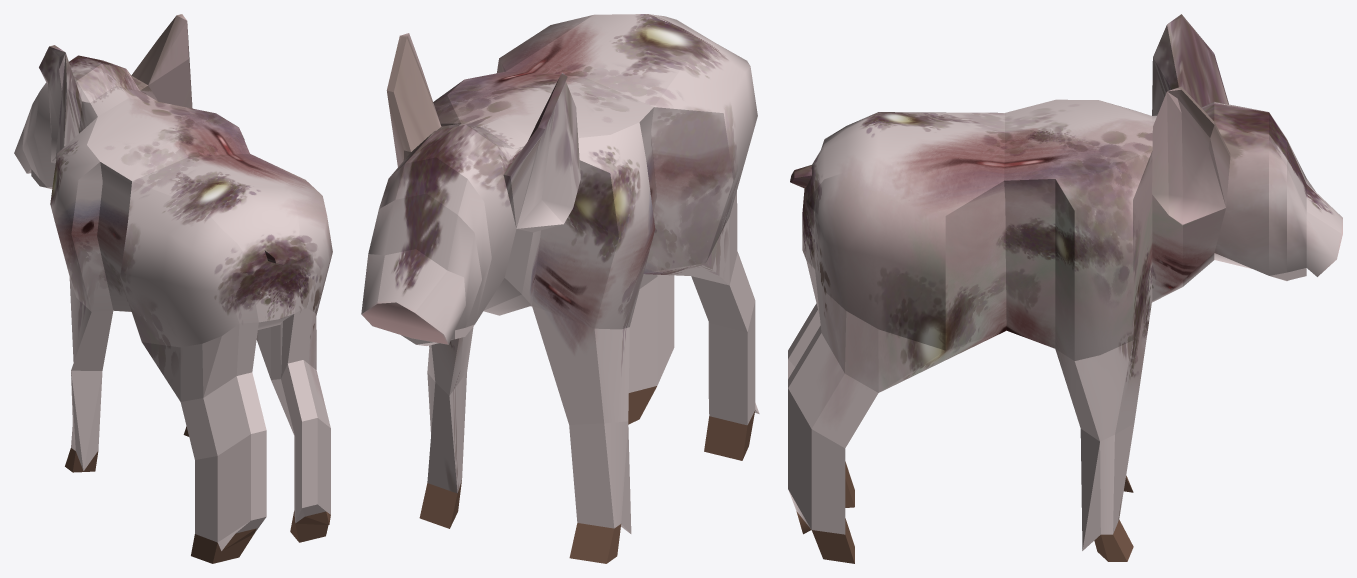
Rendered from NPCPiglet_3.fbx.
3 views of the same model, side by side, from view 1: azimuth 30°, elevation 25°; view 2: azimuth 150°, elevation 25°; view 3: azimuth 270°, elevation 25° (orthographic). The views are drawn at different scales.
Visible parts, largest first — view 1: Baby_pig_NPC_3; view 2: Baby_pig_NPC_3; view 3: Baby_pig_NPC_3.
Boxes of the visible parts, x1,y1,x2,y2 form: Baby_pig_NPC_3: [14, 14, 332, 563]; Baby_pig_NPC_3: [361, 14, 759, 563]; Baby_pig_NPC_3: [788, 14, 1342, 563].
Bounding box in the file's own units: 14.68 × 29.58 × 31.29.
1 material, 1 textured.
